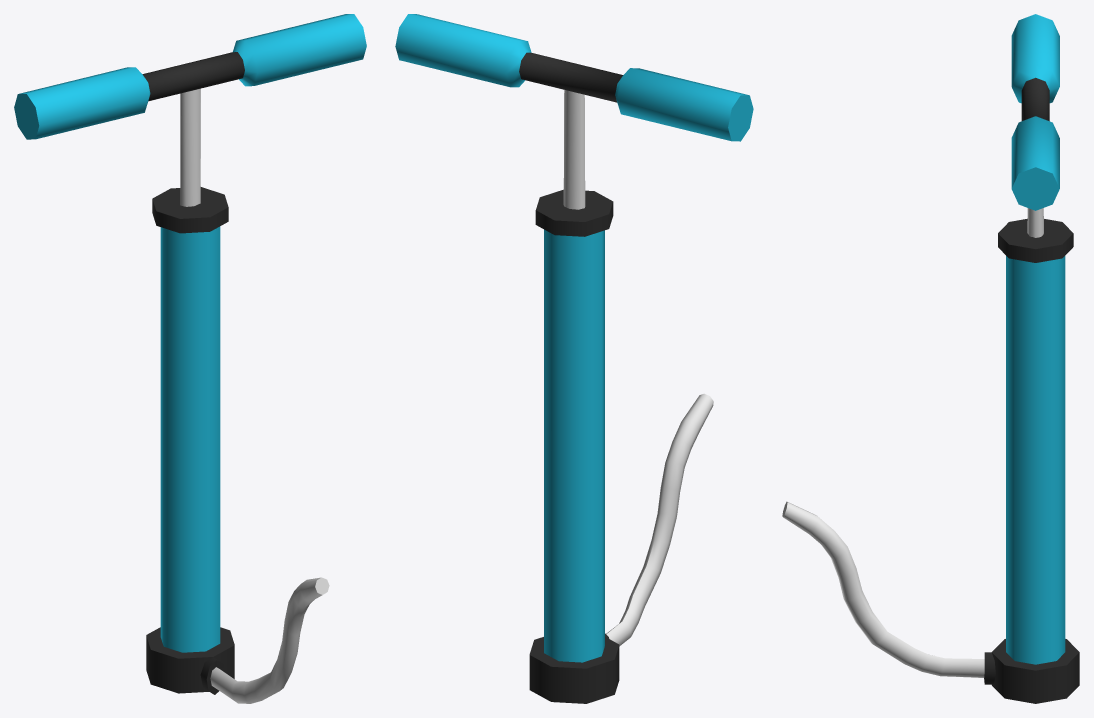
The model's file is hand pump.fbx.
The picture shows the model from 3 angles, left to right: view 1: azimuth 30°, elevation 25°; view 2: azimuth 150°, elevation 25°; view 3: azimuth 270°, elevation 25°; orthographic projection. The views are drawn at different scales.
Visible parts, largest first — view 1: hand pump 2, hand pump 1; view 2: hand pump 2, hand pump 1; view 3: hand pump 2, hand pump 1.
Part boxes in pixels (x1,y1,x2,y2): hand pump 2: (146,187,329,703); hand pump 1: (14,14,366,206); hand pump 2: (529,189,713,703); hand pump 1: (395,14,753,209); hand pump 2: (782,218,1079,703); hand pump 1: (1011,14,1059,237).
Bounding box in the file's own units: 1.79 × 3.25 × 1.47.
